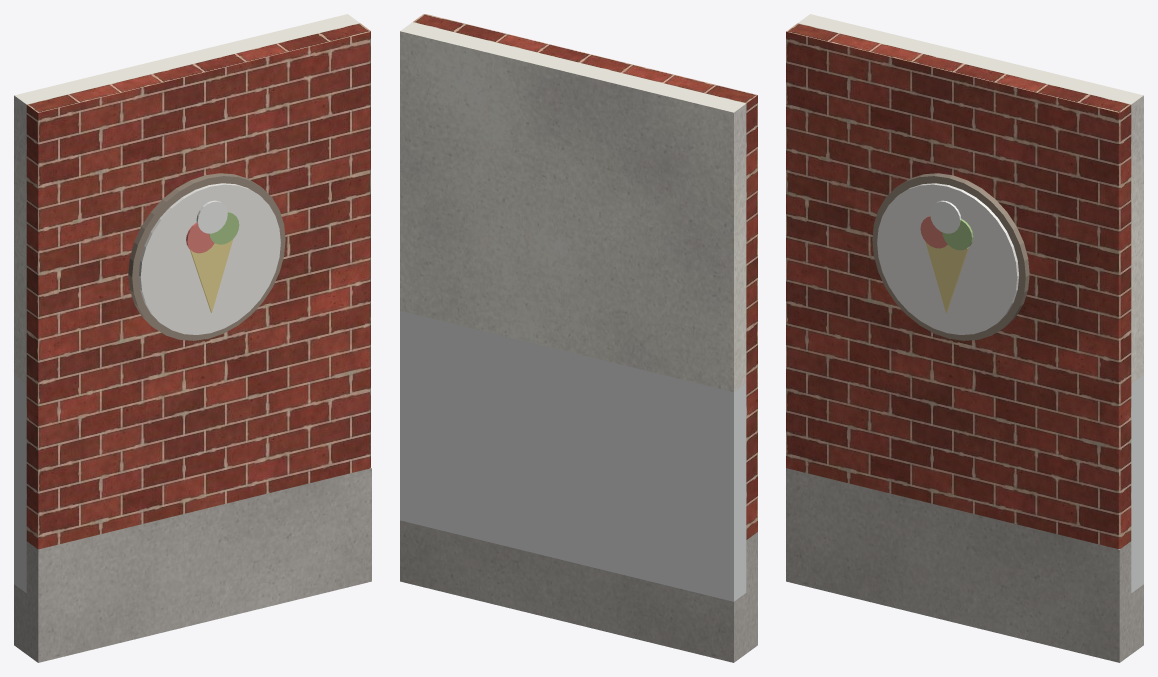
File: q_sign.glb
3 views of the same model, side by side, from view 1: azimuth 30°, elevation 25°; view 2: azimuth 150°, elevation 25°; view 3: azimuth 330°, elevation 25° (orthographic).
Visible parts, largest first — view 1: q_sign_brick, q_sign_concrete, q_sign_cart_w, q_sign_plaster, q_sign_trim, q_sign_tile, q_sign_food_y, q_sign_paint_w, q_sign_food_r, q_sign_food_g; view 2: q_sign_plaster, q_sign_tile, q_sign_concrete, q_sign_brick; view 3: q_sign_brick, q_sign_concrete, q_sign_cart_w, q_sign_plaster, q_sign_trim, q_sign_tile, q_sign_food_y, q_sign_paint_w, q_sign_food_g.
Boxes of the visible parts, bbox=[...] form: q_sign_brick: bbox=[26, 23, 370, 549]; q_sign_concrete: bbox=[14, 468, 371, 662]; q_sign_cart_w: bbox=[139, 183, 280, 334]; q_sign_plaster: bbox=[14, 14, 359, 383]; q_sign_trim: bbox=[128, 173, 285, 340]; q_sign_tile: bbox=[14, 375, 26, 592]; q_sign_food_y: bbox=[190, 239, 232, 312]; q_sign_paint_w: bbox=[196, 200, 227, 233]; q_sign_food_r: bbox=[186, 222, 214, 253]; q_sign_food_g: bbox=[209, 212, 239, 244]; q_sign_plaster: bbox=[400, 22, 746, 391]; q_sign_tile: bbox=[400, 311, 746, 601]; q_sign_concrete: bbox=[400, 520, 757, 662]; q_sign_brick: bbox=[413, 14, 757, 539]; q_sign_brick: bbox=[786, 23, 1131, 548]; q_sign_concrete: bbox=[786, 468, 1143, 662]; q_sign_cart_w: bbox=[877, 183, 1018, 334]; q_sign_plaster: bbox=[798, 14, 1143, 383]; q_sign_trim: bbox=[872, 173, 1029, 340]; q_sign_tile: bbox=[1131, 375, 1143, 592]; q_sign_food_y: bbox=[925, 241, 968, 312]; q_sign_paint_w: bbox=[930, 200, 961, 233]; q_sign_food_g: bbox=[942, 219, 973, 250].
Bounding box in the file's own units: 2 × 3.15 × 0.331.
10 materials, 3 textured.
